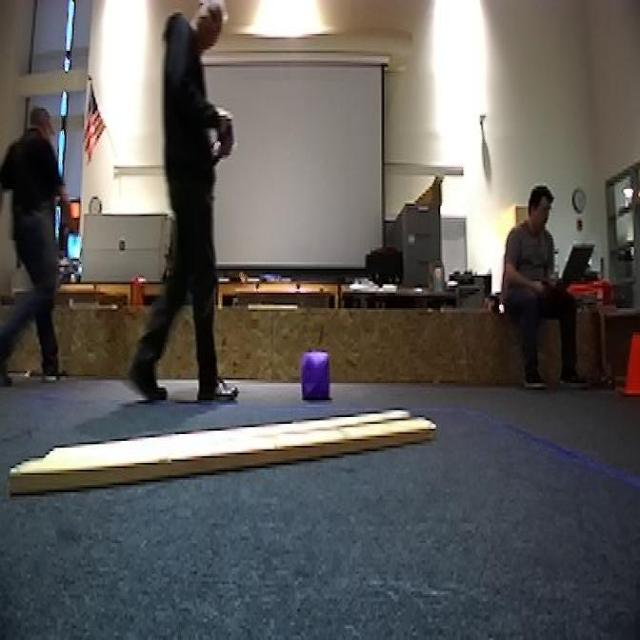frc_cube: (297, 354, 333, 402)
